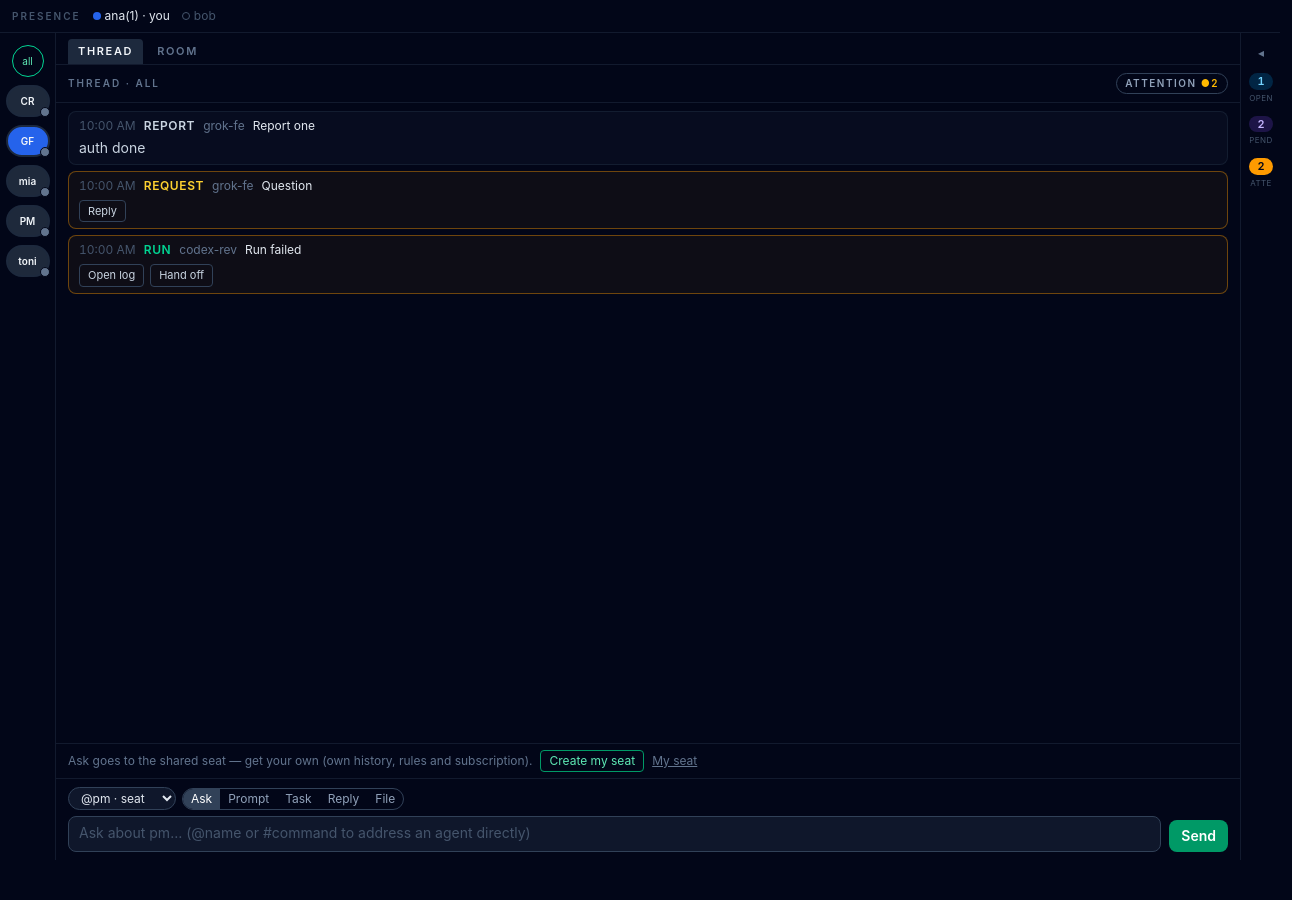
Test: CommandCenter › collapsible Board and Roster (spec §4.4) › the Roster collapses to avatars at ≤900px (full roster above), and avatars focus the thread
expect the text "Report one" is shown: met, box [253,118,315,132]
Click the button with aria-label "@codex-rev" at (28, 101), box [6,85,50,117]
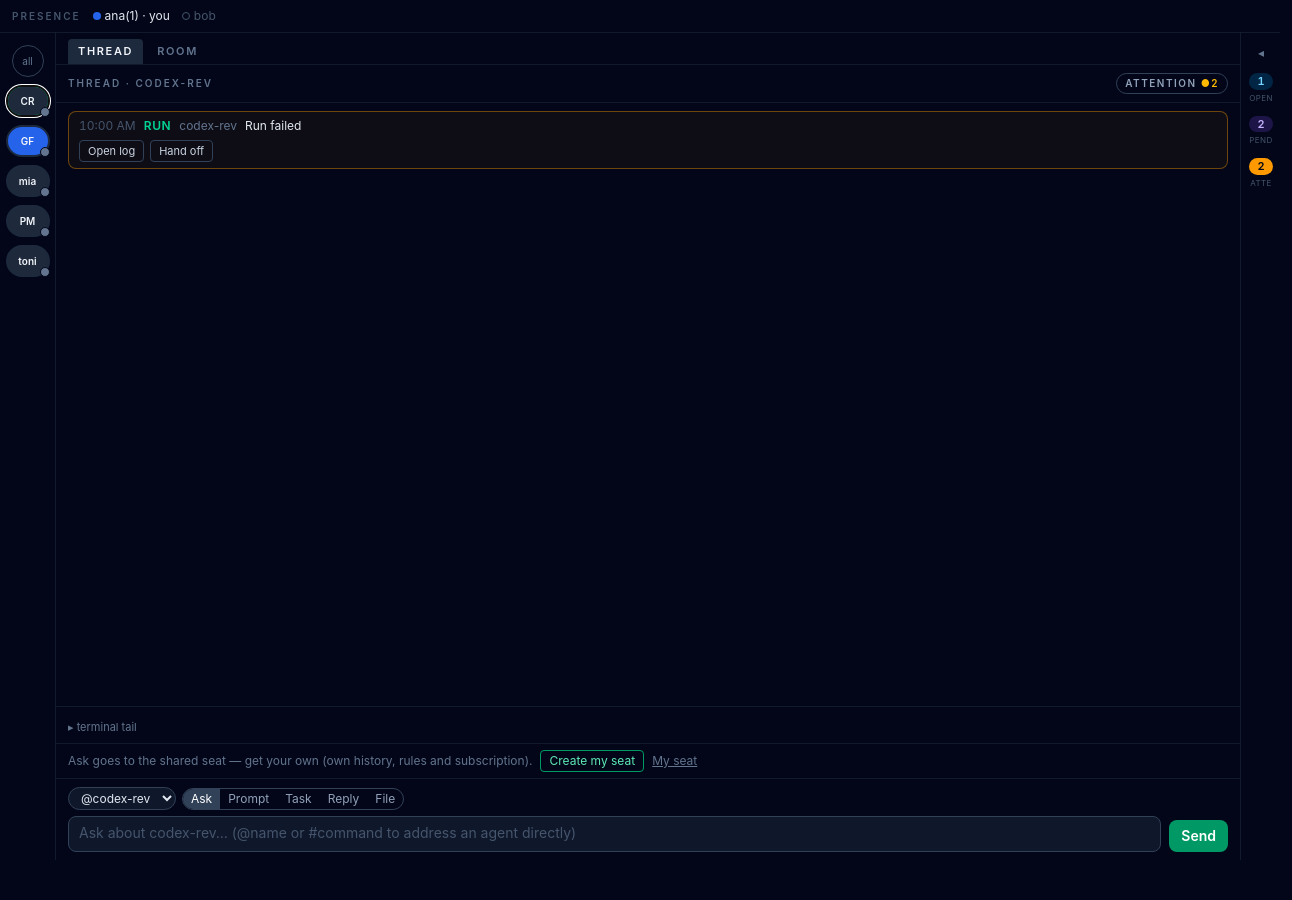
expect the text "Run failed" is shown: met, box [245,118,301,132]
expect the text "Report one" is gone: met
